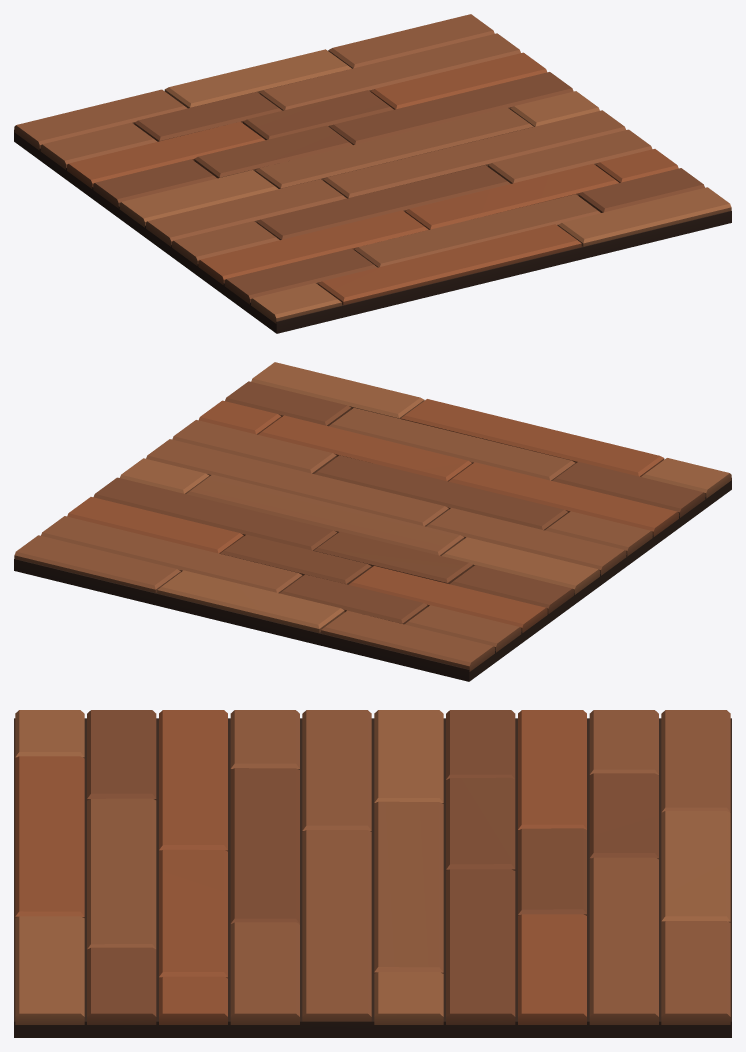
Rendered from floor_planks_large_B.glb.
The picture shows the model from 3 angles, top to bottom: view 1: azimuth 30°, elevation 25°; view 2: azimuth 150°, elevation 25°; view 3: azimuth 270°, elevation 25°; orthographic projection. The views are drawn at different scales.
Parts seen in each view (by area): view 1: Item; view 2: Item; view 3: Item.
Boxes of the visible parts, x1=… form: Item: x1=14, y1=14, x2=731, y2=333; Item: x1=14, y1=362, x2=731, y2=681; Item: x1=14, y1=710, x2=731, y2=1037.
Bounding box in the file's own units: 4 × 0.1578 × 4.
Materials: 1 (1 with a texture image).
